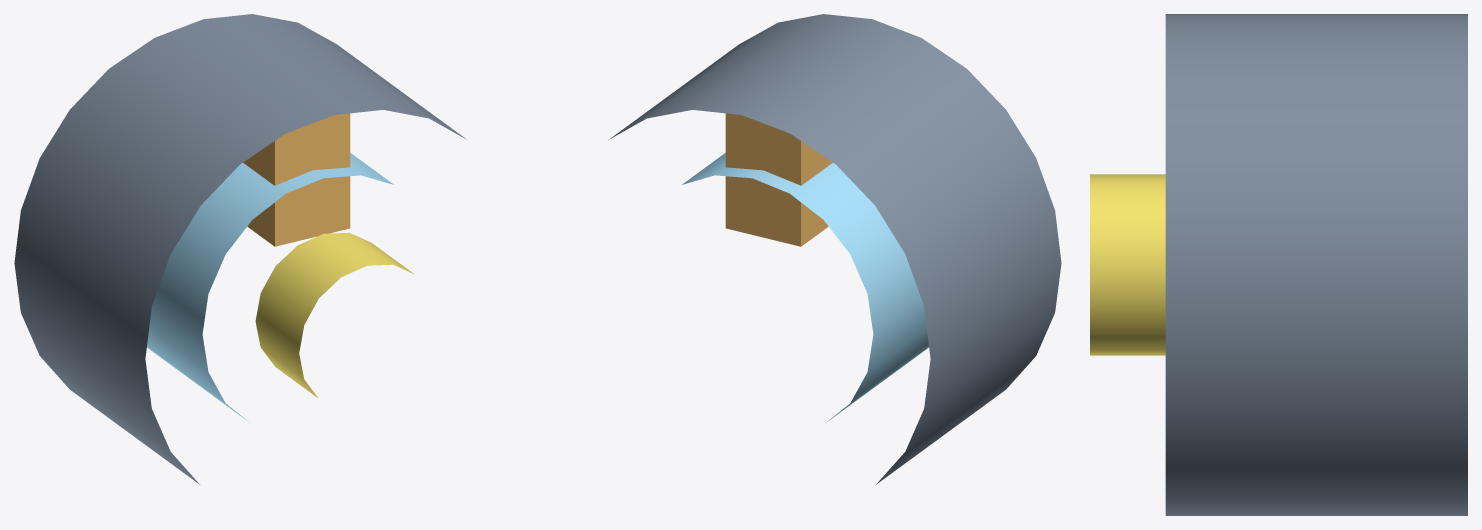
The model's file is dc_generator_characteristics_emf.glb.
The picture shows the model from 3 angles, left to right: view 1: azimuth 30°, elevation 25°; view 2: azimuth 150°, elevation 25°; view 3: azimuth 270°, elevation 25°; orthographic projection. The views are drawn at different scales.
Visible parts, largest first — view 1: CastSteelGeneratorFrameYoke, SlottedArmatureRotorWindings, FieldStatorPolesExcitationCoils, CommutatorCarbonBrushGear; view 2: CastSteelGeneratorFrameYoke, SlottedArmatureRotorWindings, FieldStatorPolesExcitationCoils; view 3: CastSteelGeneratorFrameYoke, CommutatorCarbonBrushGear.
Part boxes in pixels (left/top/right/bottom): CastSteelGeneratorFrameYoke: left=14, top=14, right=466, bottom=484; SlottedArmatureRotorWindings: left=147, top=153, right=393, bottom=422; FieldStatorPolesExcitationCoils: left=243, top=113, right=350, bottom=246; CommutatorCarbonBrushGear: left=255, top=232, right=414, bottom=398; CastSteelGeneratorFrameYoke: left=609, top=14, right=1061, bottom=484; SlottedArmatureRotorWindings: left=682, top=153, right=928, bottom=422; FieldStatorPolesExcitationCoils: left=725, top=113, right=832, bottom=246; CastSteelGeneratorFrameYoke: left=1165, top=14, right=1467, bottom=515; CommutatorCarbonBrushGear: left=1090, top=174, right=1165, bottom=355.
Bounding box in the file's own units: 1 × 1 × 0.75.
